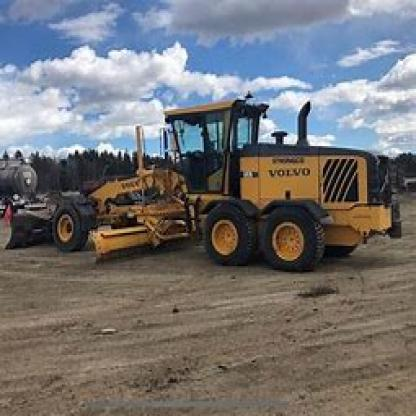bull_dozer/loader/grader: (41, 94, 406, 279)
